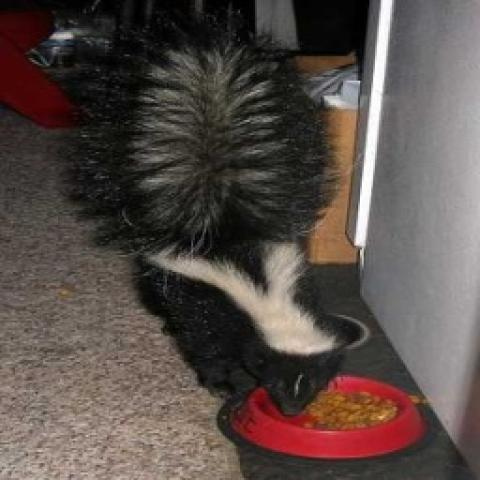small_animal: (51, 15, 370, 416)
